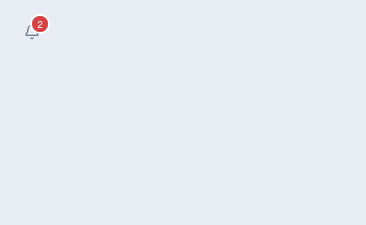
Test: NotificationCenter › distinguishes unread notifications visually
The width and height of the screenshot is (366, 225).
Click the button named "notificações" at {"x": 32, "y": 32}, box x1=12 y1=12 x2=52 y2=52
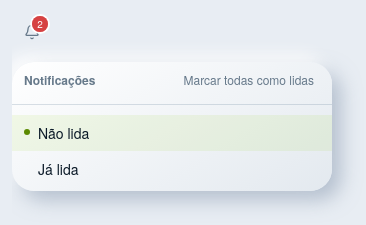
Now the text "Não lida" is shown, box x1=38 y1=123 x2=89 y2=143
Now the element with test id "unread-dot" is shown, box x1=24 y1=129 x2=30 y2=135
